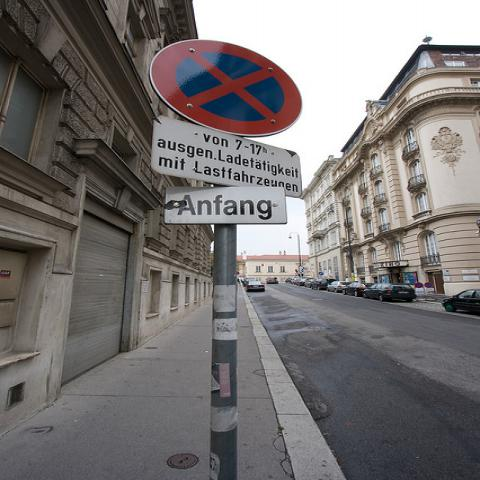car: (362, 283, 417, 302), (441, 289, 479, 314), (341, 282, 373, 294), (310, 278, 336, 290), (326, 281, 351, 293), (248, 281, 265, 291), (265, 276, 279, 284), (298, 278, 310, 286), (290, 276, 302, 284), (304, 280, 316, 287), (284, 277, 292, 283)
